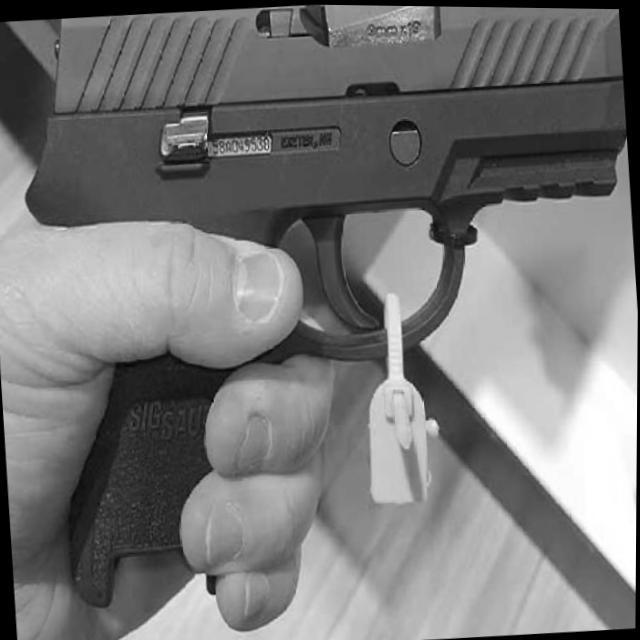weapon: (5, 1, 640, 614)
